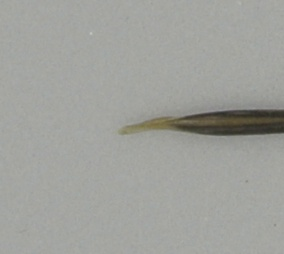เมล้ดปลายพู่กัน: (119, 95, 284, 148)
